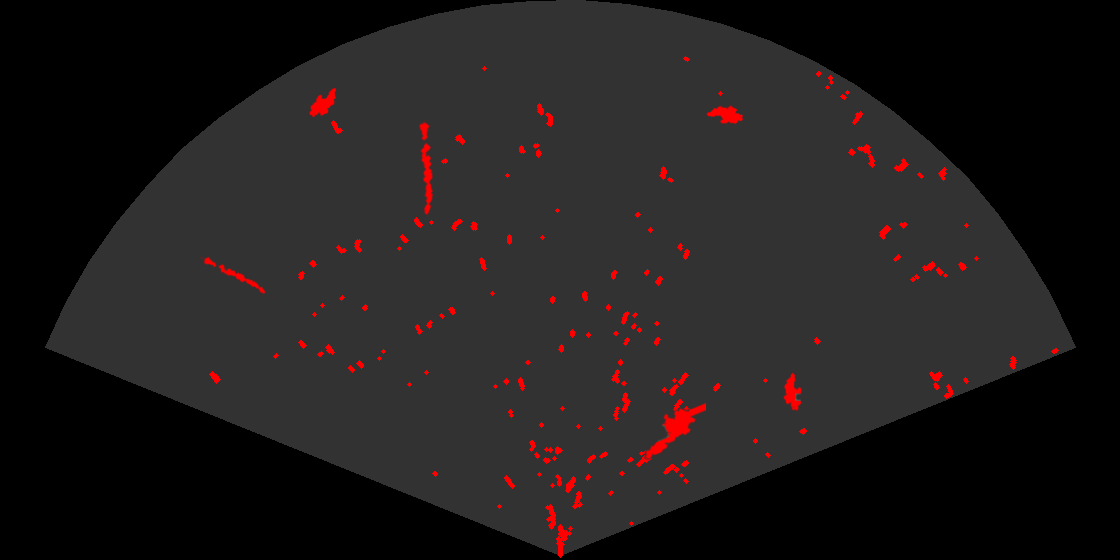AUV: (308, 86, 338, 119), (782, 371, 803, 413), (705, 104, 745, 126)
chain: (200, 255, 274, 298), (418, 120, 435, 216)
frogman: (643, 401, 706, 461)
